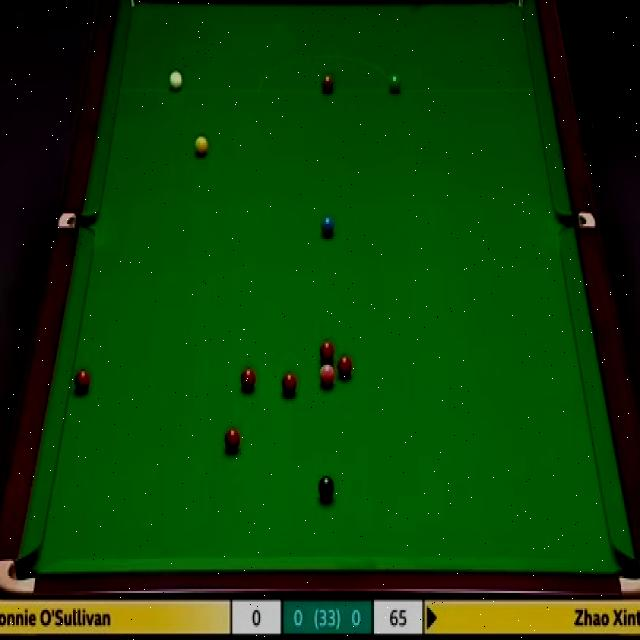black-ball: (317, 476, 336, 499)
blue-ball: (321, 216, 336, 236)
brown-ball: (321, 70, 334, 92)
green-ball: (387, 75, 400, 93)
pink-ball: (320, 365, 335, 390)
red-ball: (225, 426, 242, 455), (336, 354, 352, 380), (240, 366, 255, 392), (74, 369, 89, 393), (281, 372, 296, 395), (320, 340, 334, 361)
white-ball: (171, 72, 183, 87)
yellow-ball: (195, 136, 207, 156)
